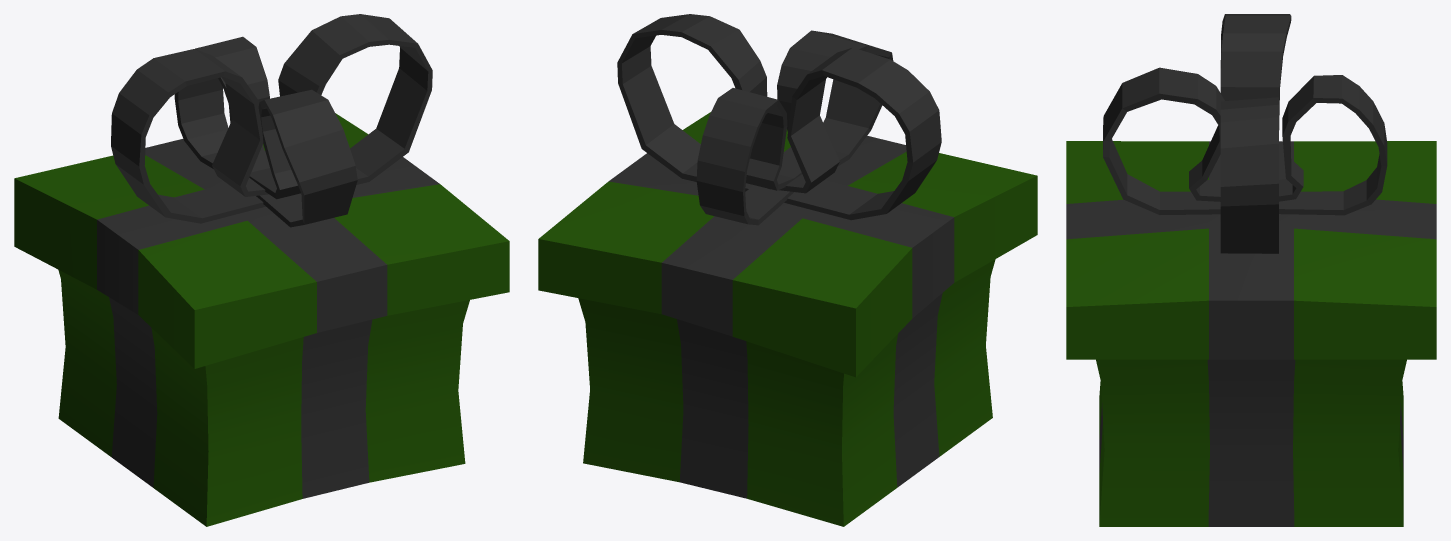
Rendered from Gift_Poison.fbx.
3 views of the same model, side by side, from view 1: azimuth 30°, elevation 25°; view 2: azimuth 150°, elevation 25°; view 3: azimuth 270°, elevation 25° (orthographic). The views are drawn at different scales.
Parts seen in each view (by area): view 1: Gift_Poison; view 2: Gift_Poison; view 3: Gift_Poison.
Boxes of the visible parts, <box> form: Gift_Poison: <box>14,14,509,526</box>; Gift_Poison: <box>538,14,1037,526</box>; Gift_Poison: <box>1066,14,1436,526</box>.
Size of the model in its own units: 0.6091 by 0.7253 by 0.6034.
